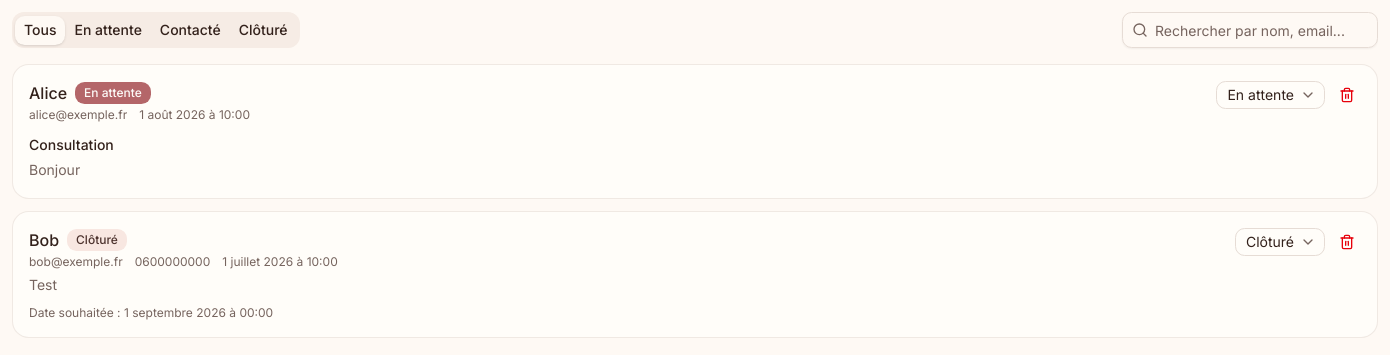
Test: RdvManager › searches by name or email
The width and height of the screenshot is (1390, 355).
Type "bob" into the field with placeholder "Rechercher par nom, email..." at (1250, 30), box [1122, 12, 1378, 48]
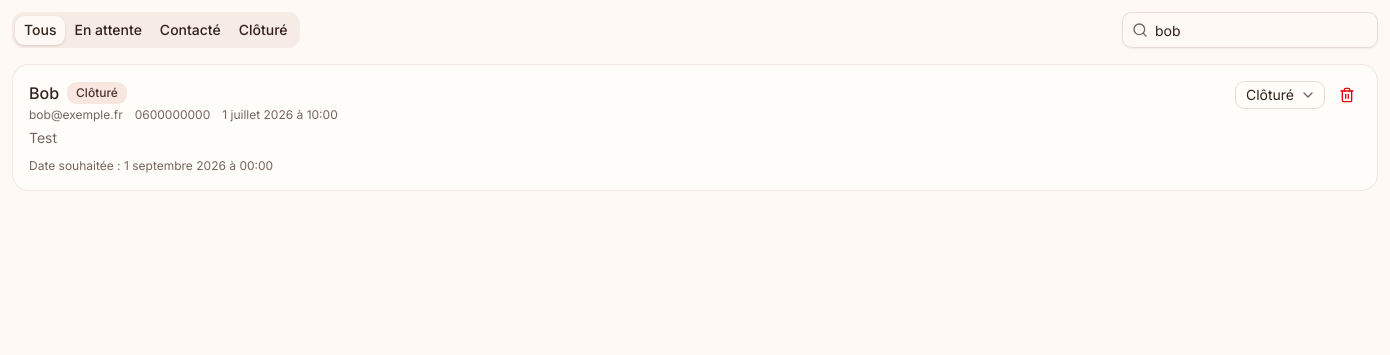
Expected: the text "Bob" is shown, [29, 81, 59, 105]
Result: the text "Alice" is gone
